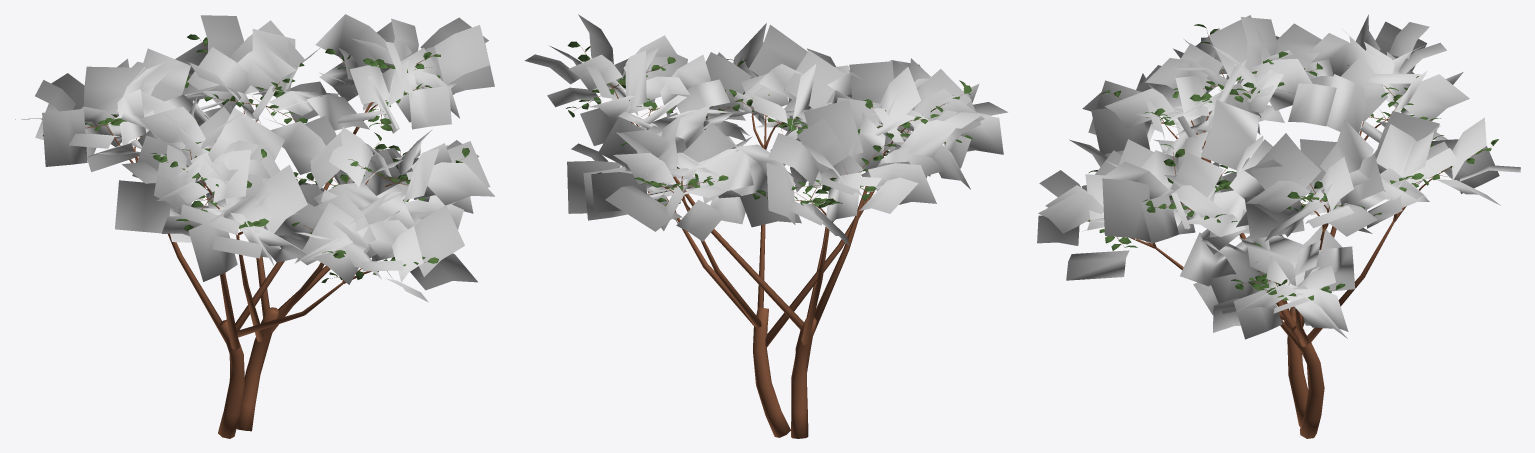
File: V7_Arbousier_1_Niveau0.fbx
3 renders of one model, left to right at view 1: azimuth 30°, elevation 25°; view 2: azimuth 150°, elevation 25°; view 3: azimuth 270°, elevation 25°, orthographic.
Visible parts, largest first — view 1: V7_Arbousier_1; view 2: V7_Arbousier_1; view 3: V7_Arbousier_1.
Boxes of the visible parts, <box> form: V7_Arbousier_1: <box>15,14,494,438</box>; V7_Arbousier_1: <box>524,14,1007,438</box>; V7_Arbousier_1: <box>1037,14,1520,438</box>.
Size of the model in its own units: 423 by 356 by 417.
